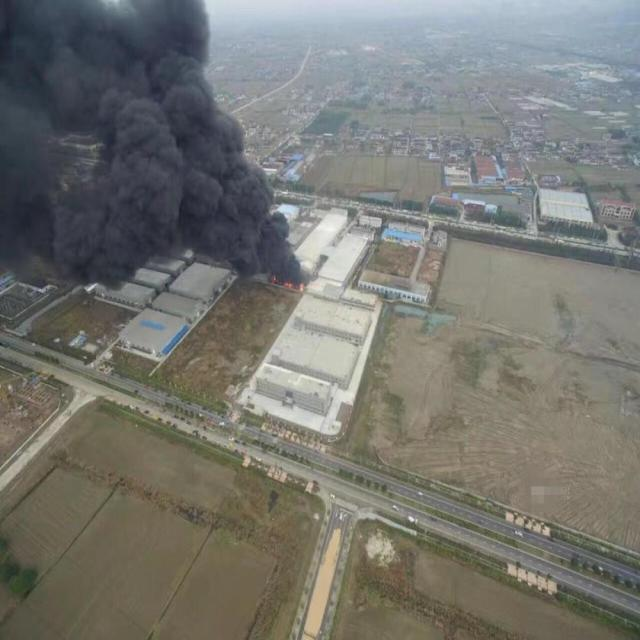Fire: (271, 270, 307, 294)
Smoke: (0, 2, 313, 294)
